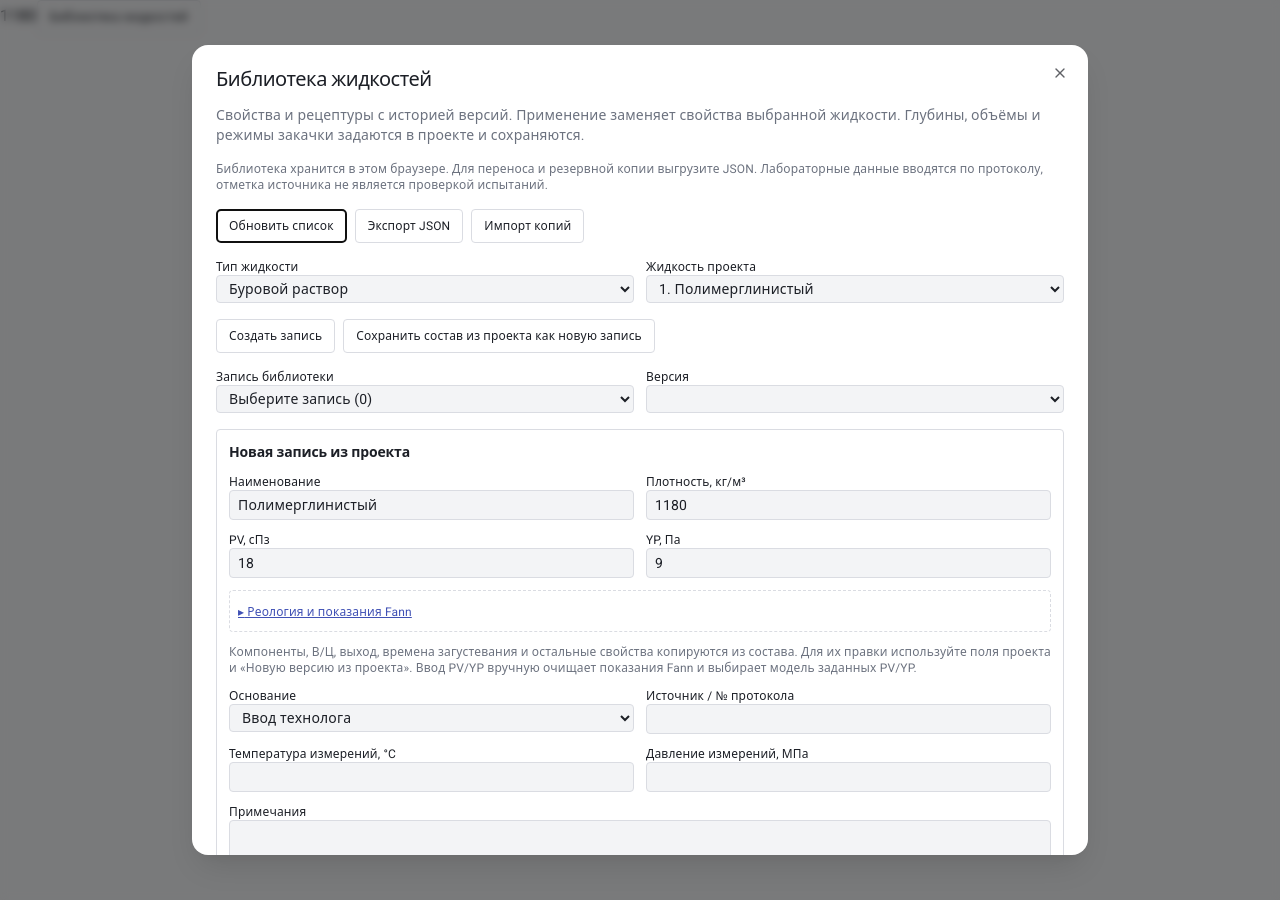
Test: edits immutable versions and changes project only on explicit application
Earlier steps of the test are not shown.
Later steps or results of the test are not shown.
Step 1. Type "Протокол 45" into the field named "Источник свойств" → point(848, 719), box [646,704,1051,734]
(page scrolled)
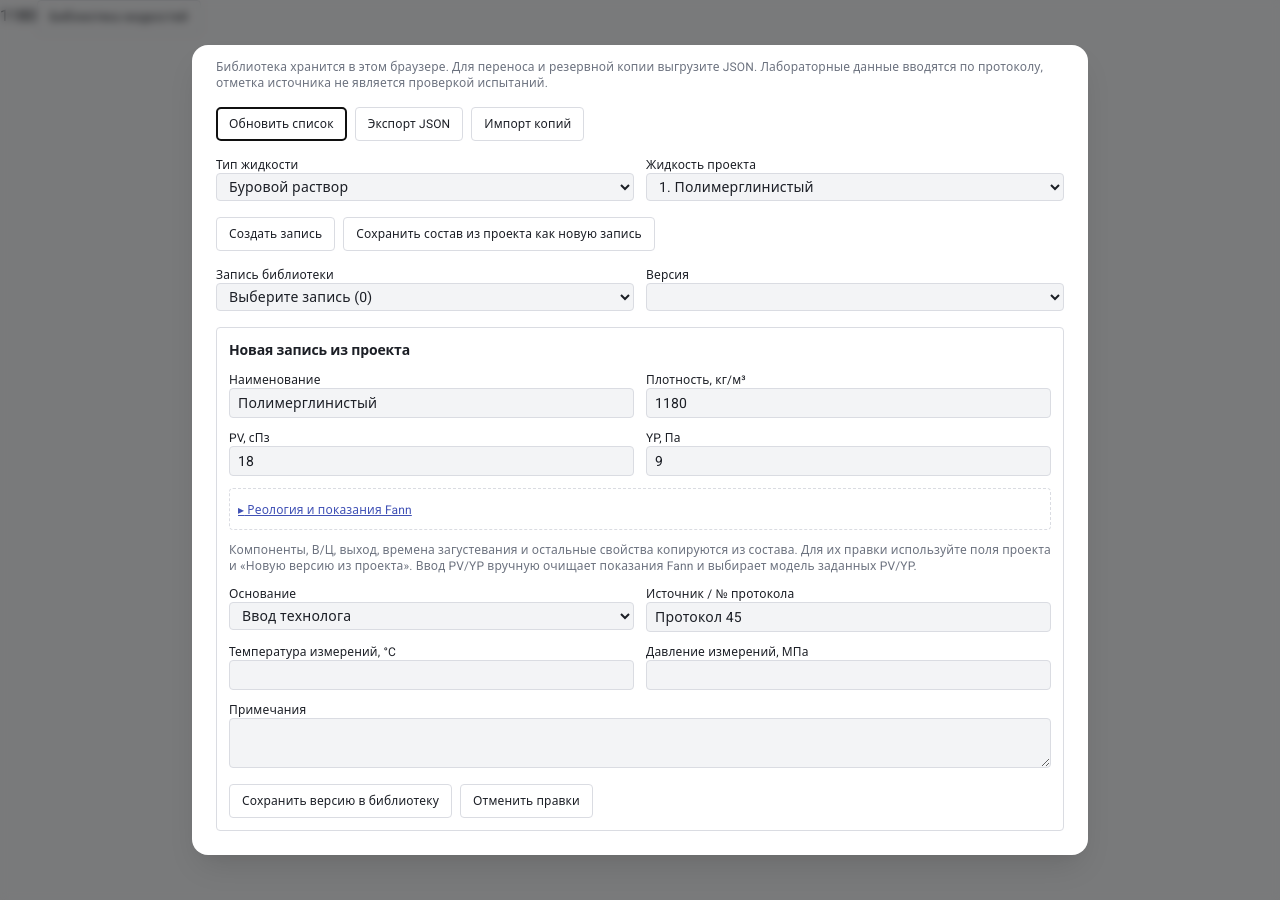
Step 2. Click the button "Сохранить версию в библиотеку" → point(340, 801), box [229,784,452,818]
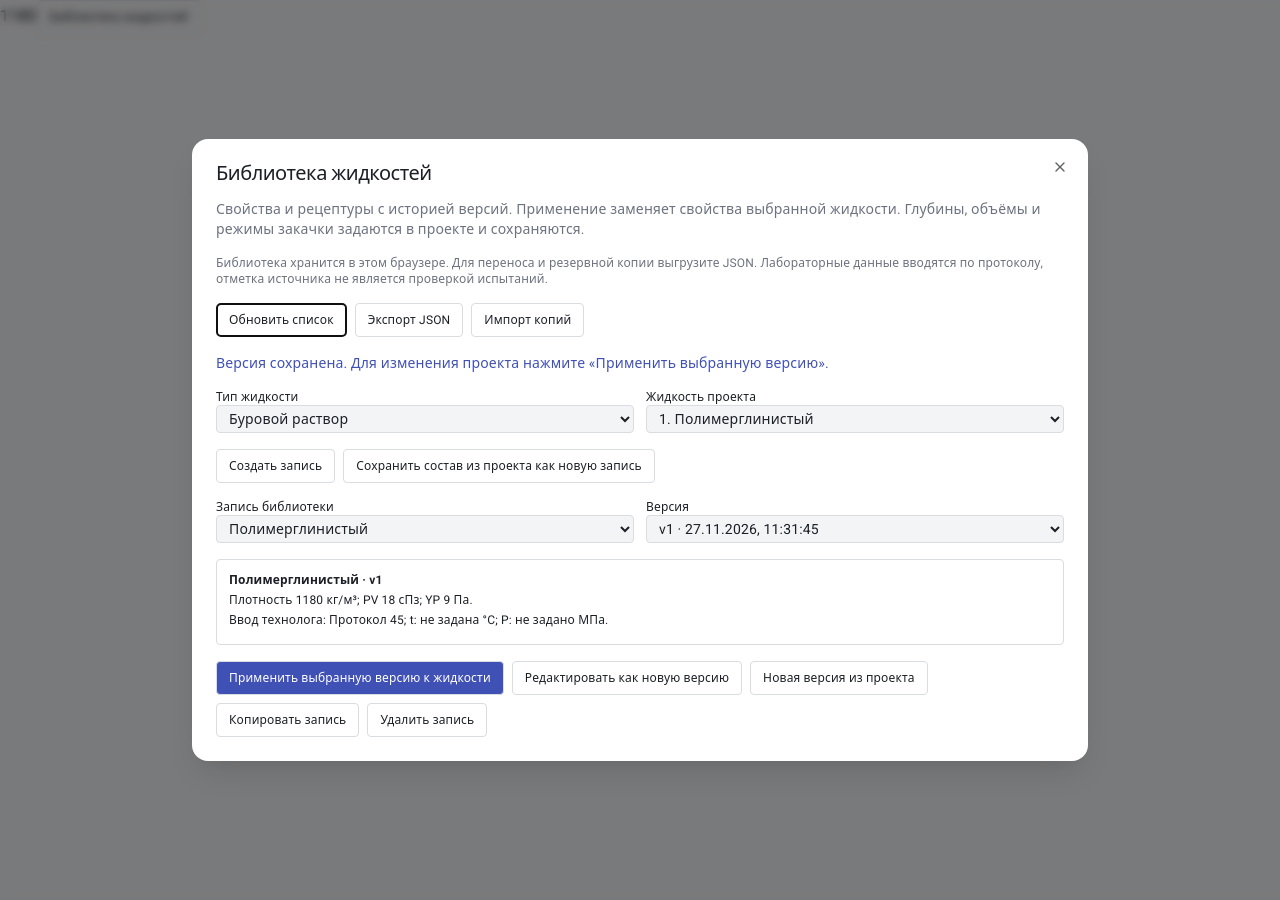
Step 3. Click the button "Редактировать как новую версию" → point(627, 678), box [512,661,742,695]
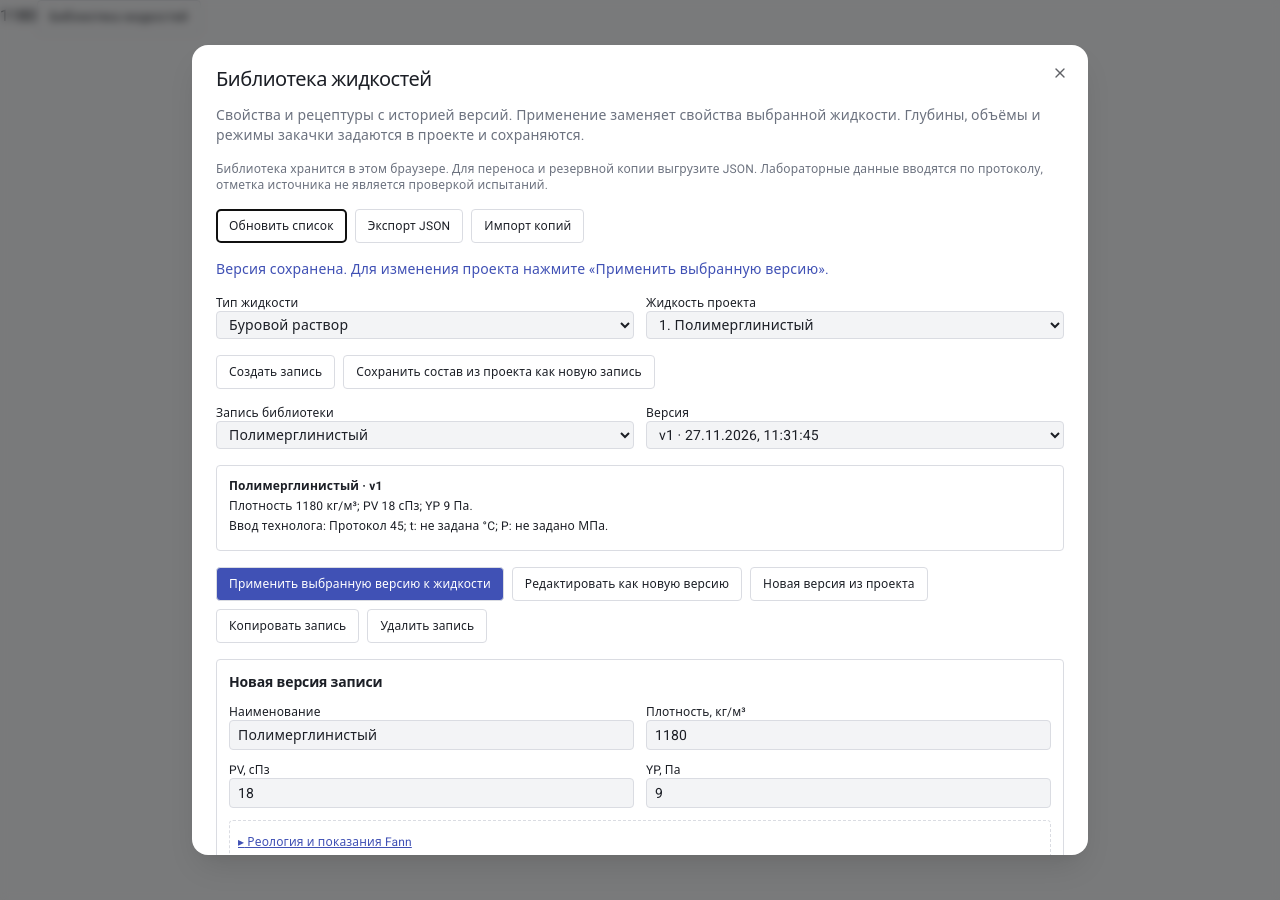
Step 4. Replace the text in the number field named "Плотность библиотеки" with "1500" → point(848, 735), box [646,720,1051,750]
(page scrolled)
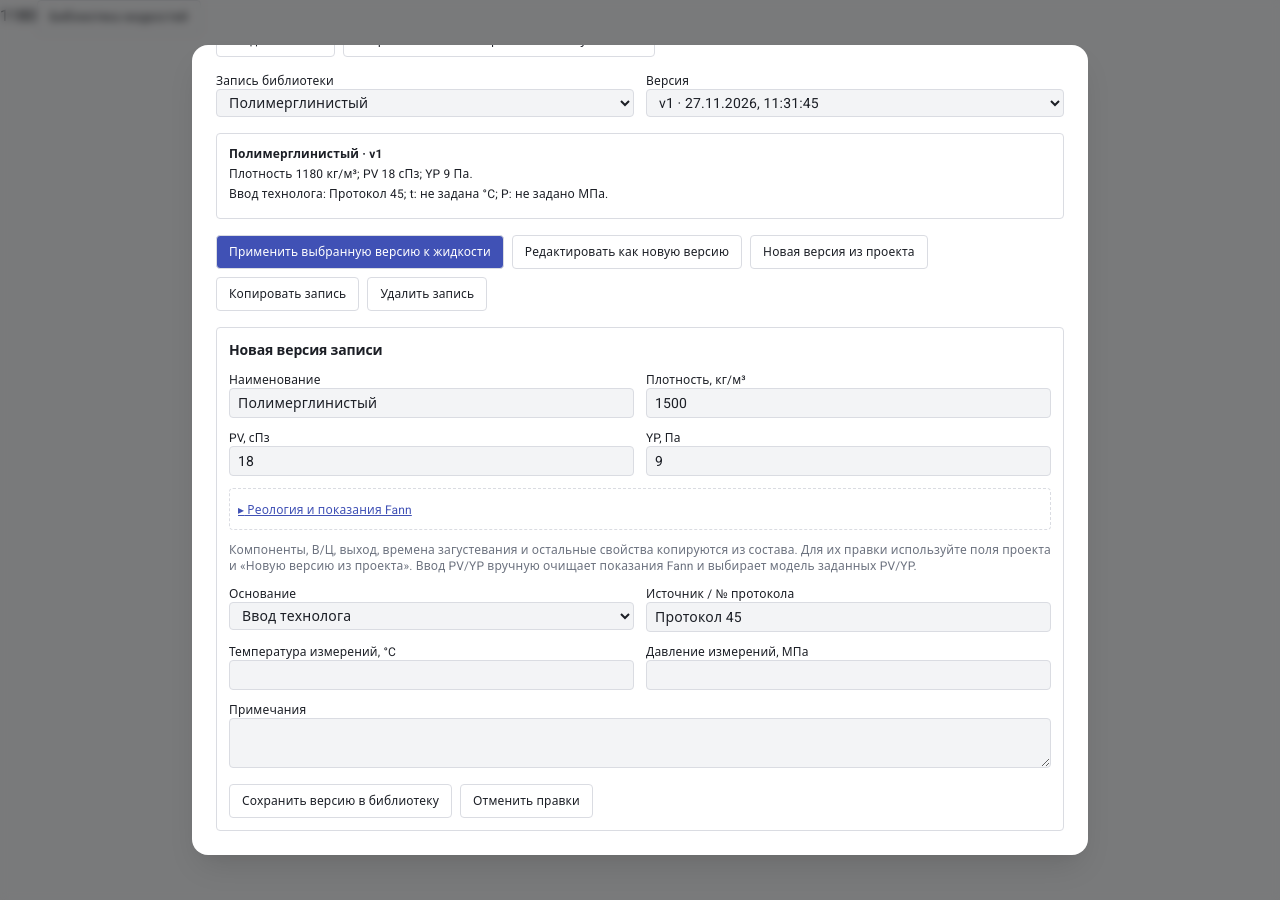
Step 5. Click the button "Сохранить версию в библиотеку" → point(340, 801), box [229,784,452,818]
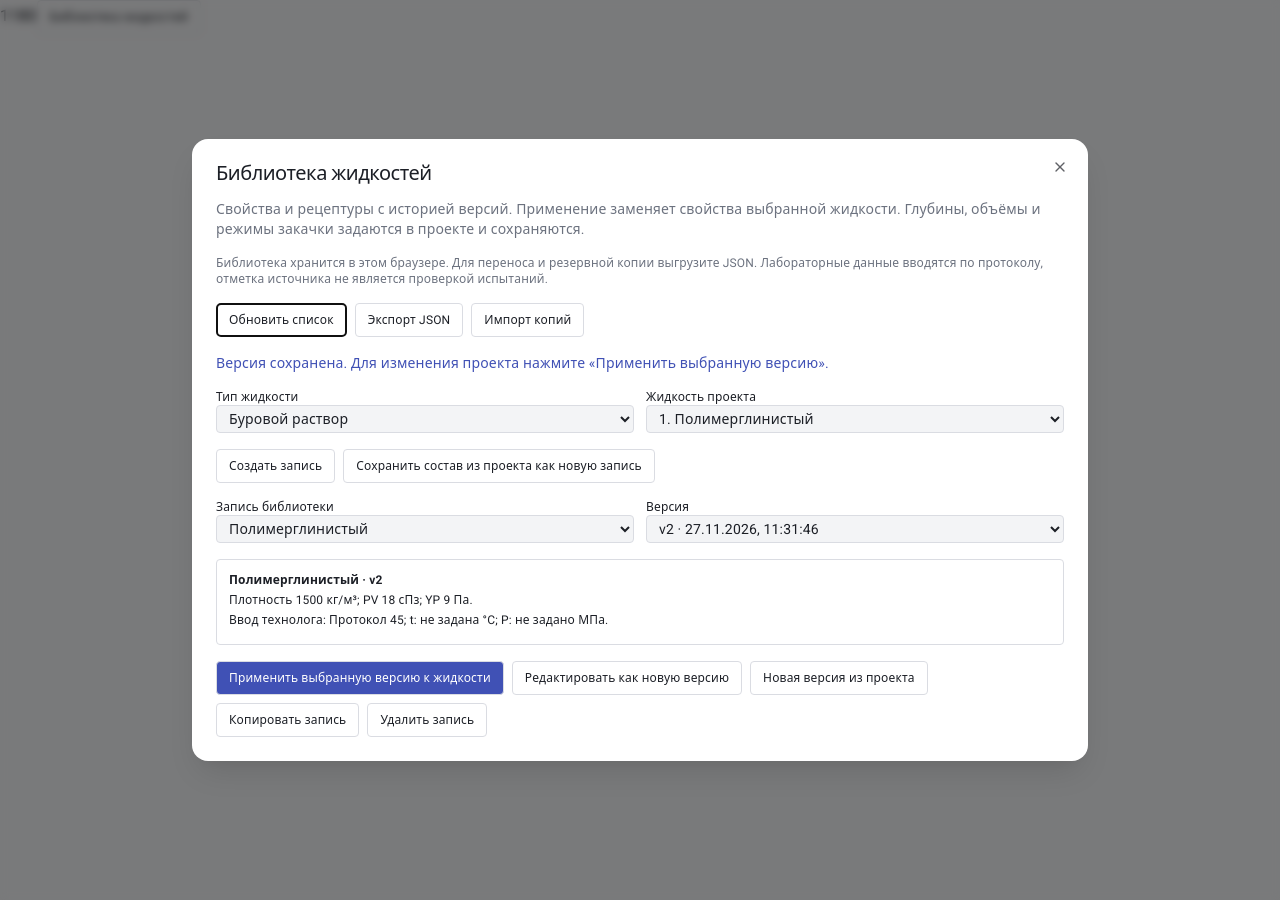
Check: the element with test id "project-density" does not show "1500"
Step 6. Click the button "Применить выбранную версию к жидкости" → point(360, 678), box [216,661,504,695]
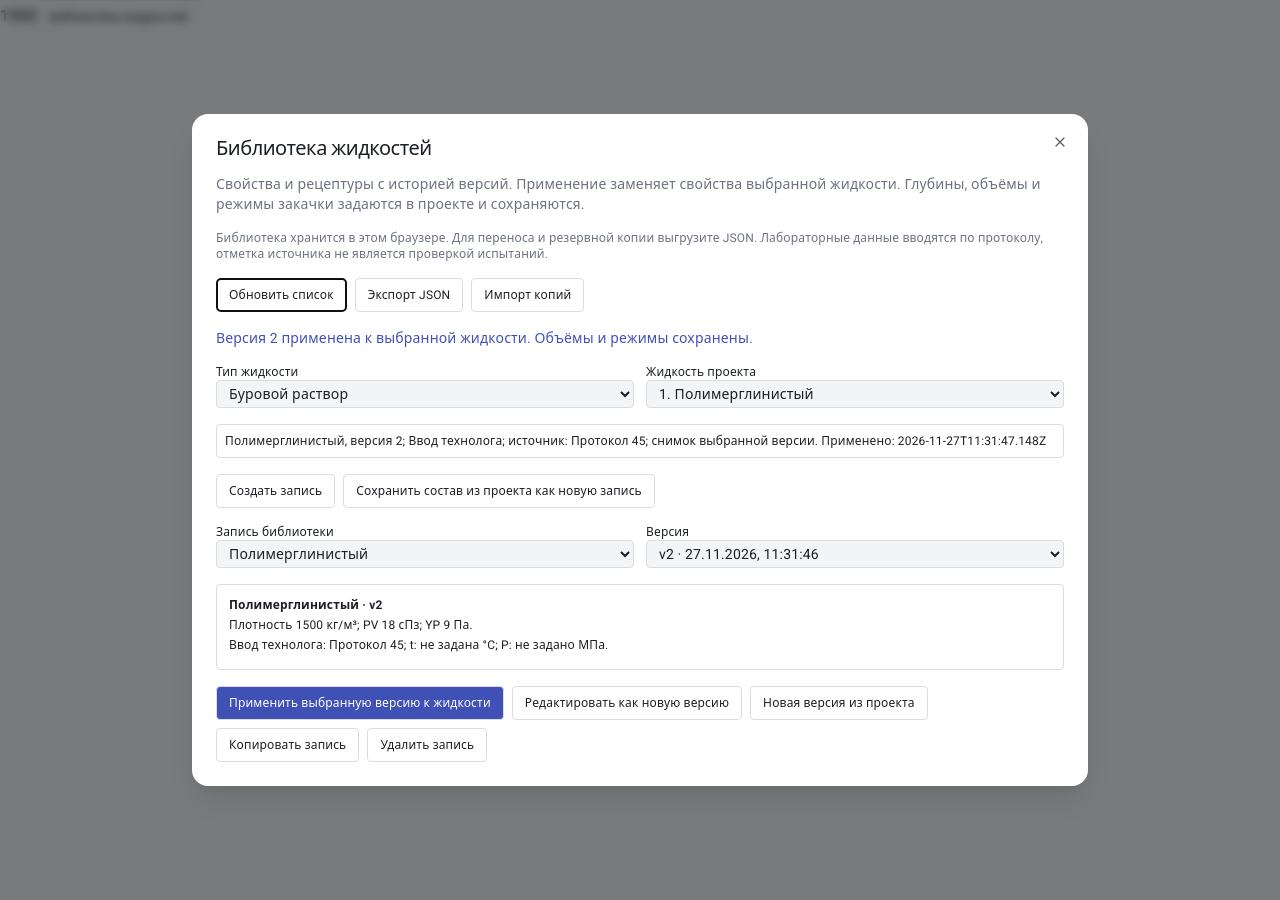
Check: the text with test id "project-density" reads "1500", box [0,6,37,25]
Check: the text "снимок выбранной версии" shows "версия 2", box [225,434,1046,448]
